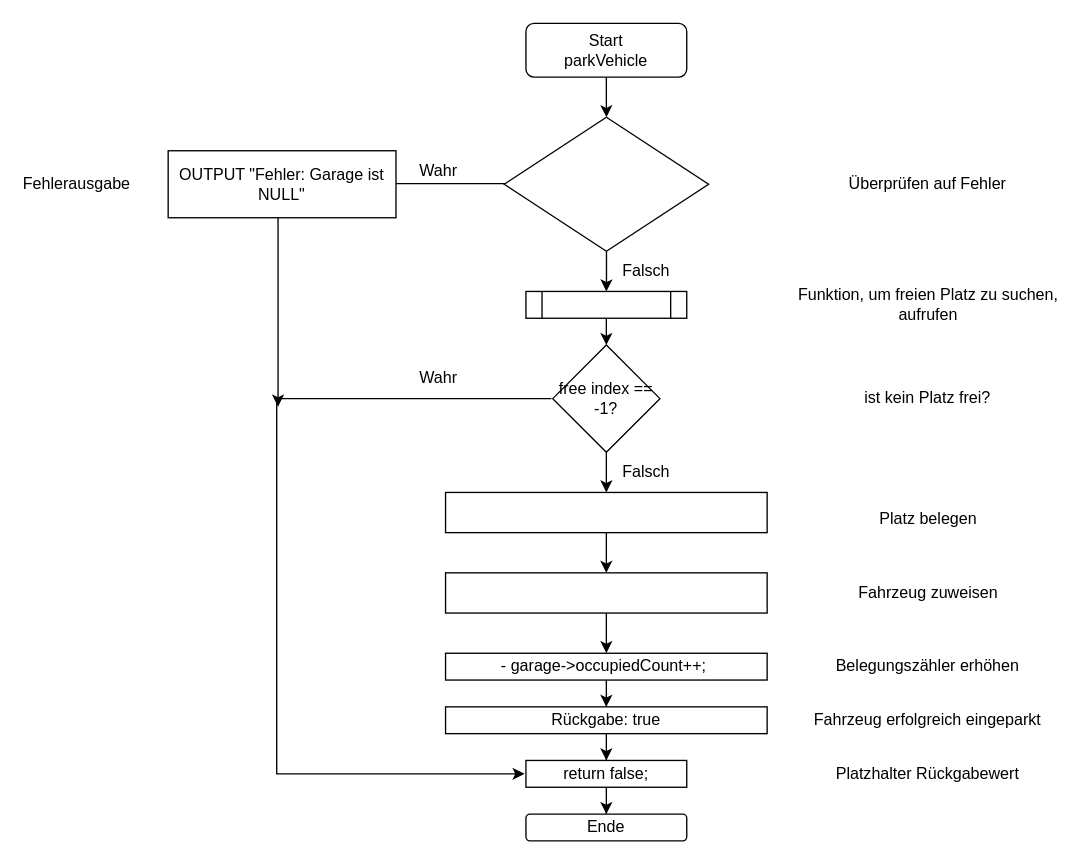
The diagram is 1088 pixels wide and 864 high, and some of its shapes have lost their labels. Each missing label, with the box of its shape:
findFreeSpot: (525, 290, 687, 318)
garage->spots[freierPlatz].occupied = true;: (444, 491, 767, 533)
garage->spots[freierPlatz].vehicle = &v;: (444, 572, 767, 613)
IF garage == NULL THEN: (503, 116, 709, 251)
